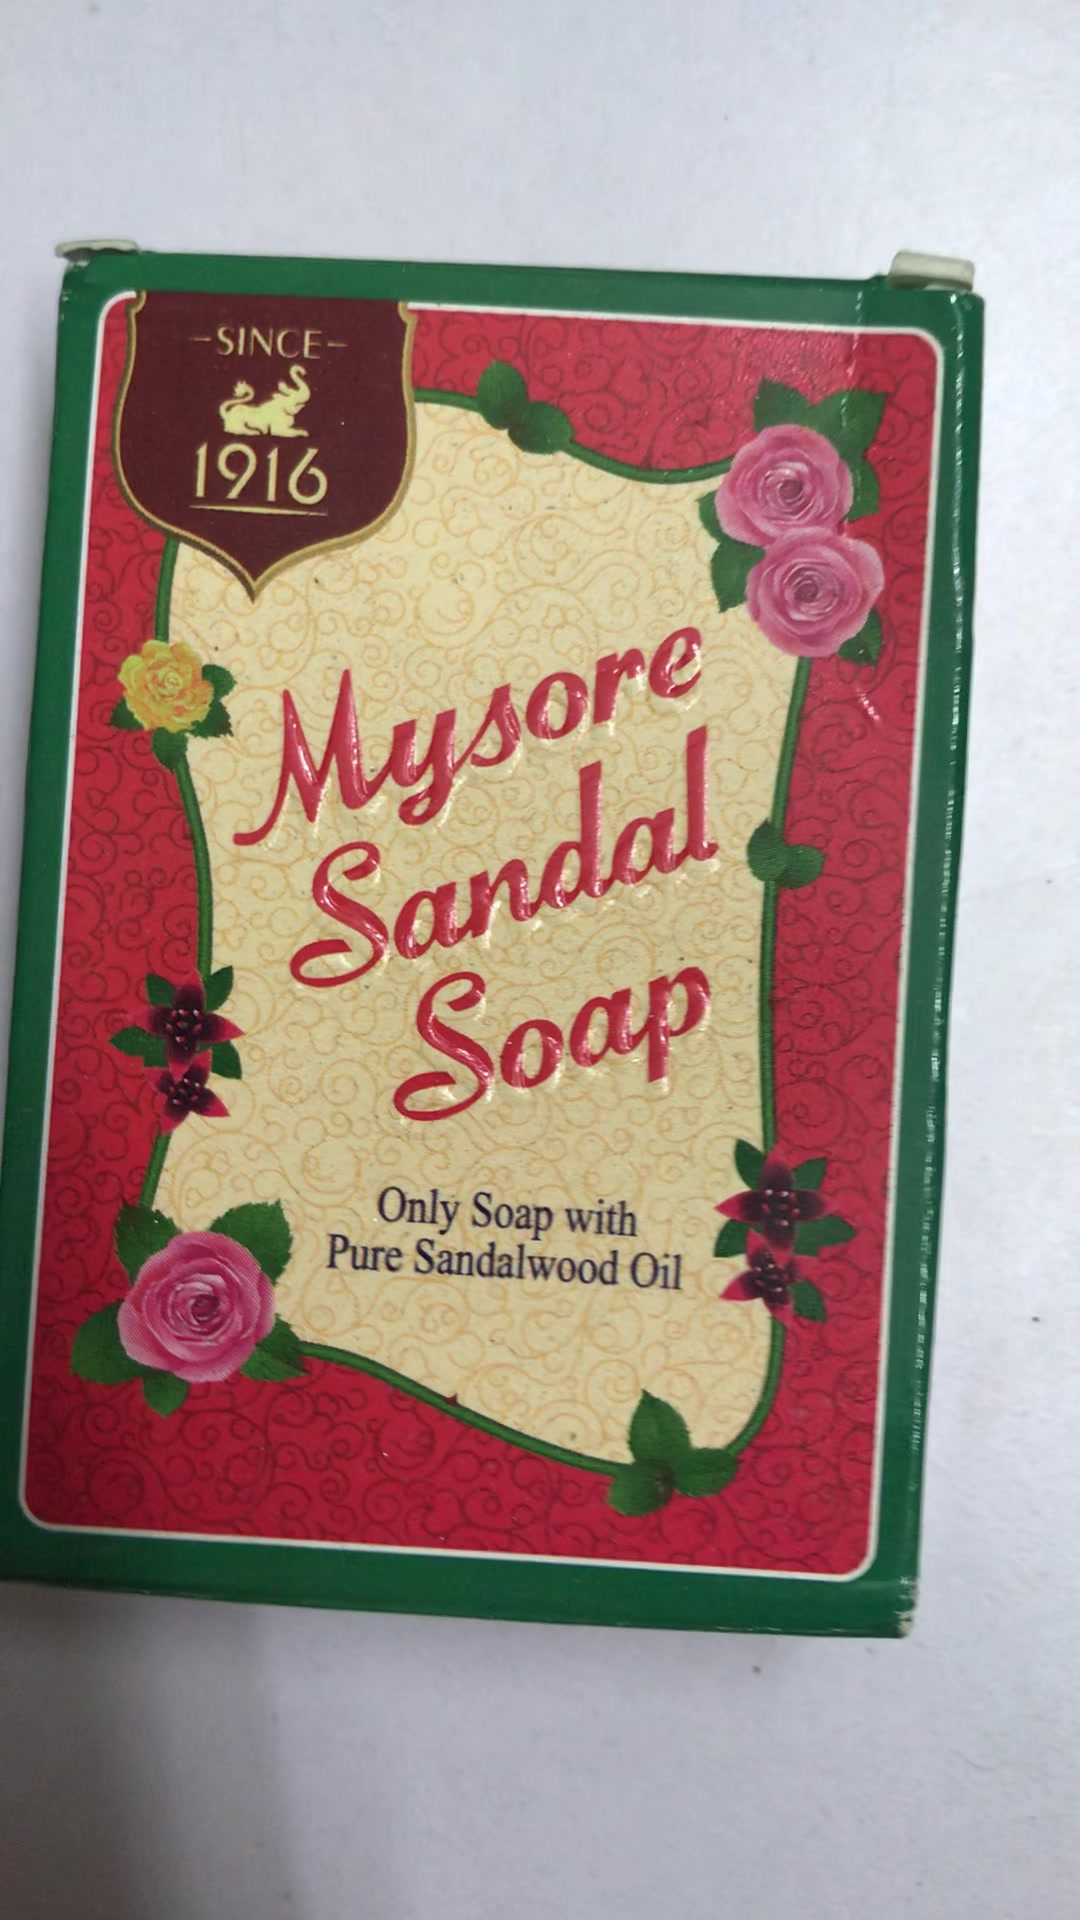mysore sandal soap: (5, 243, 976, 1642)
